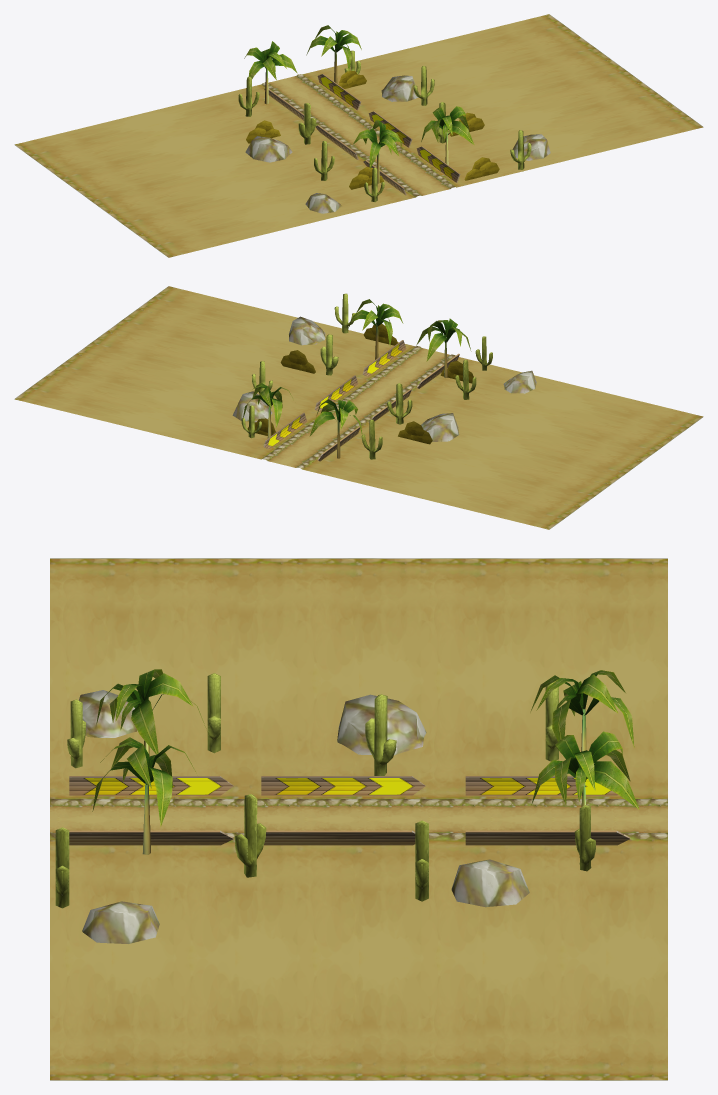
File: DesertRoad02_Short.FBX
The picture shows the model from 3 angles, top to bottom: view 1: azimuth 30°, elevation 25°; view 2: azimuth 150°, elevation 25°; view 3: azimuth 270°, elevation 25°; orthographic projection. The views are drawn at different scales.
Parts seen in each view (by area): view 1: Road, PalmTree (×4), Stone (×4), Fence (×2), Bush (×2), Cactus (×2); view 2: Road, PalmTree (×4), Stone (×4), Fence (×3), Bush (×3), Cactus (×3); view 3: Road, Fence (×6), PalmTree (×4), Stone (×4), Cactus (×8).
Boxes of the visible parts, x1,y1,x2,y2 form: Road: (14, 14, 703, 257); PalmTree (×4): (244, 25, 474, 183); Stone (×4): (245, 75, 550, 213); Fence (×2): (317, 74, 460, 182); Bush (×2): (246, 120, 499, 180); Cactus (×2): (298, 103, 334, 180); Road: (14, 286, 703, 529); PalmTree (×4): (242, 299, 471, 458); Stone (×4): (232, 316, 536, 441); Fence (×3): (263, 340, 406, 448); Bush (×3): (280, 323, 432, 444); Cactus (×3): (320, 334, 412, 459); Road: (50, 558, 667, 1080); Fence (×6): (69, 776, 630, 845); PalmTree (×4): (92, 669, 639, 854); Stone (×4): (79, 690, 529, 943); Cactus (×8): (55, 673, 595, 908).
Bounding box in the file's own units: 10000 × 1146 × 5000.
